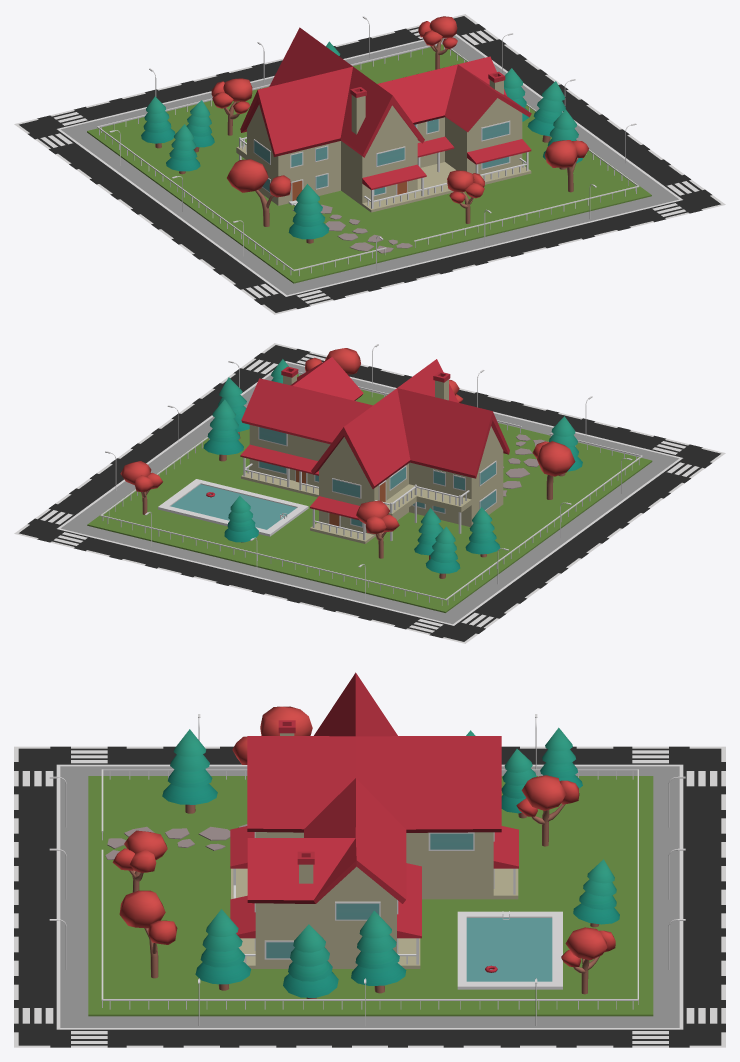
File: ResidentialArea_Upgrade.fbx
The picture shows the model from 3 angles, top to bottom: view 1: azimuth 30°, elevation 25°; view 2: azimuth 150°, elevation 25°; view 3: azimuth 270°, elevation 25°; orthographic projection. The views are drawn at different scales.
Parts seen in each view (by area): view 1: ResidentialArea_Upgrade; view 2: ResidentialArea_Upgrade; view 3: ResidentialArea_Upgrade.
Part boxes in pixels (<box>): ResidentialArea_Upgrade: <box>14,14,725,314</box>; ResidentialArea_Upgrade: <box>14,343,725,643</box>; ResidentialArea_Upgrade: <box>14,672,725,1047</box>.
Bounding box in the file's own units: 1000 × 235 × 1000.
1 material, 1 textured.
